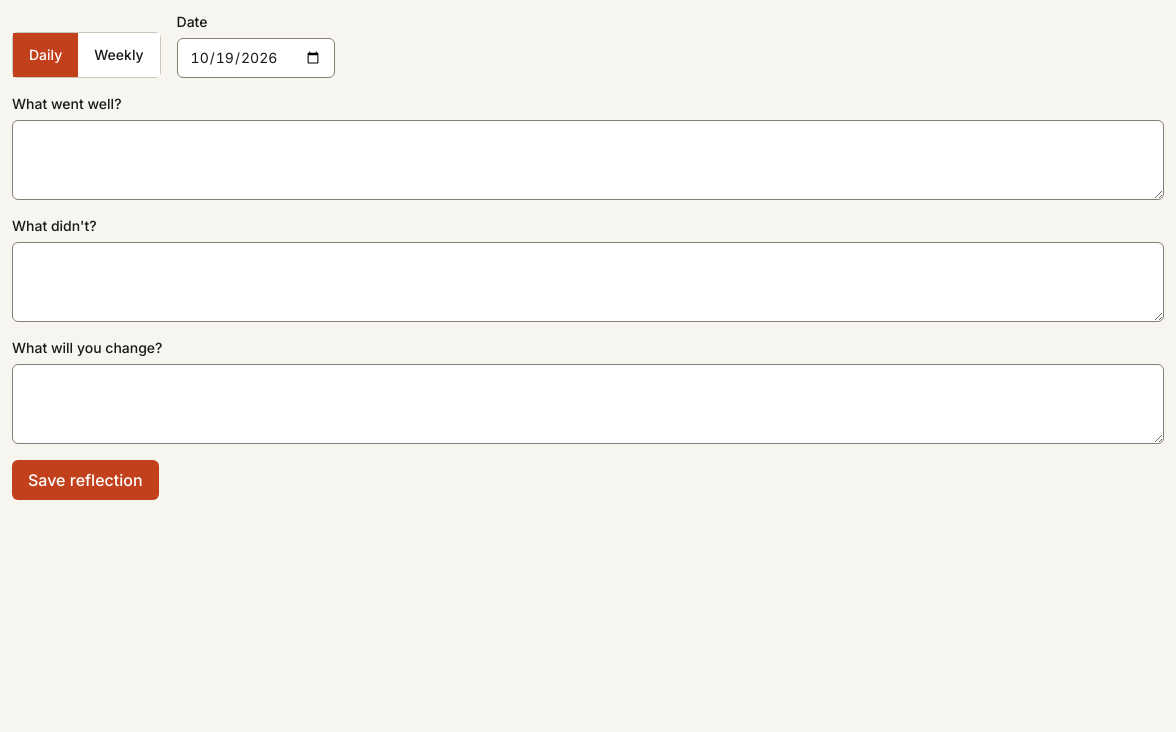
Test case: ReflectionForm › clears and confirms on success
The image size is (1176, 732).
Click the button "weekly" at (119, 55), box [78,33,160,77]
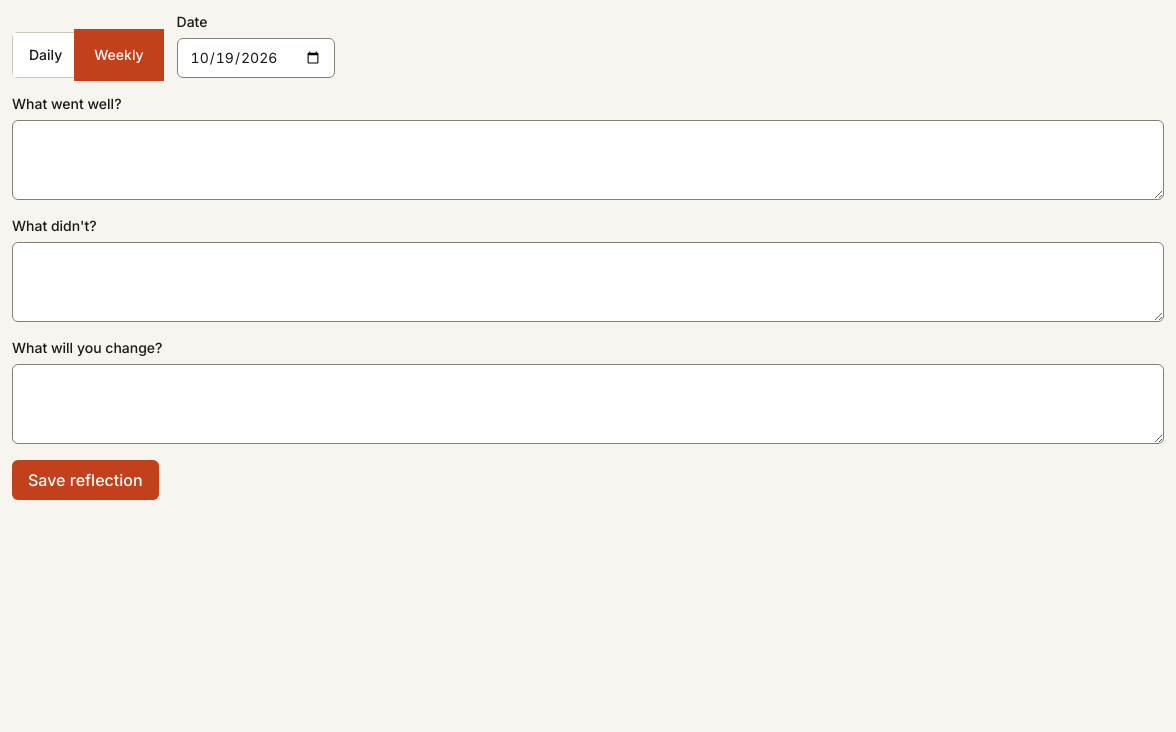
Type "sleep" into the text box labelled "What will you change?" at (588, 404), box [12,364,1164,444]
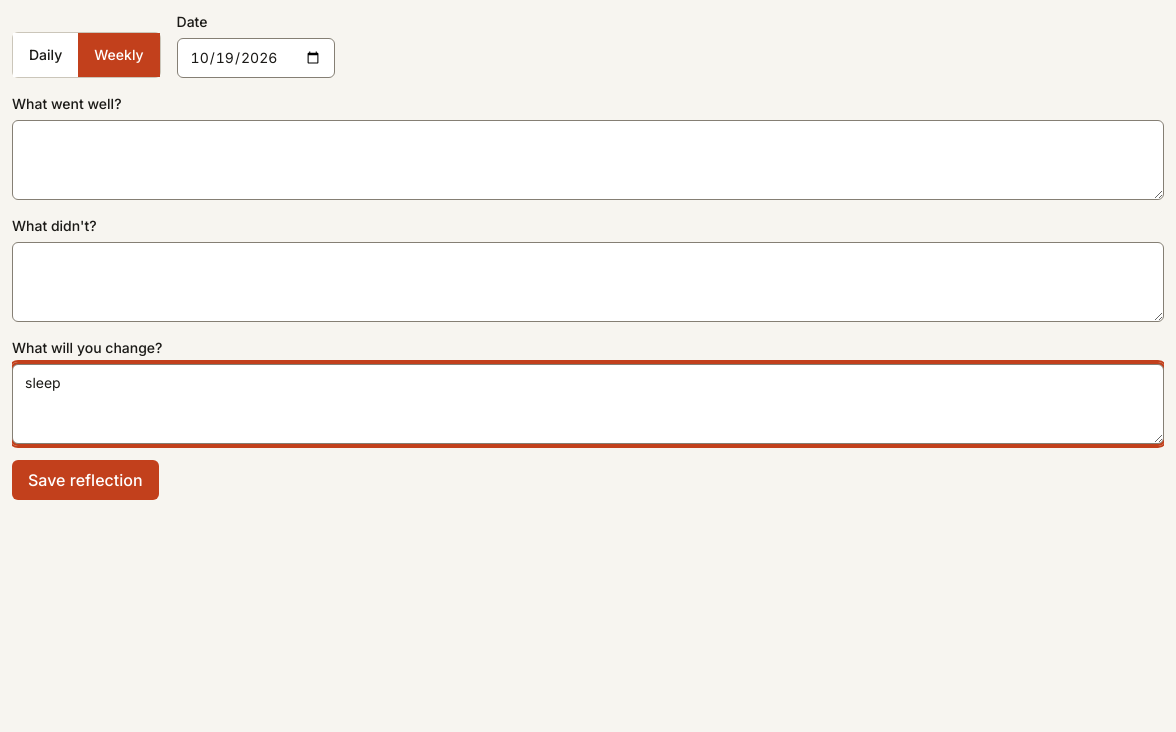
Click the button "Save reflection" at (85, 480), box [12,460,158,500]
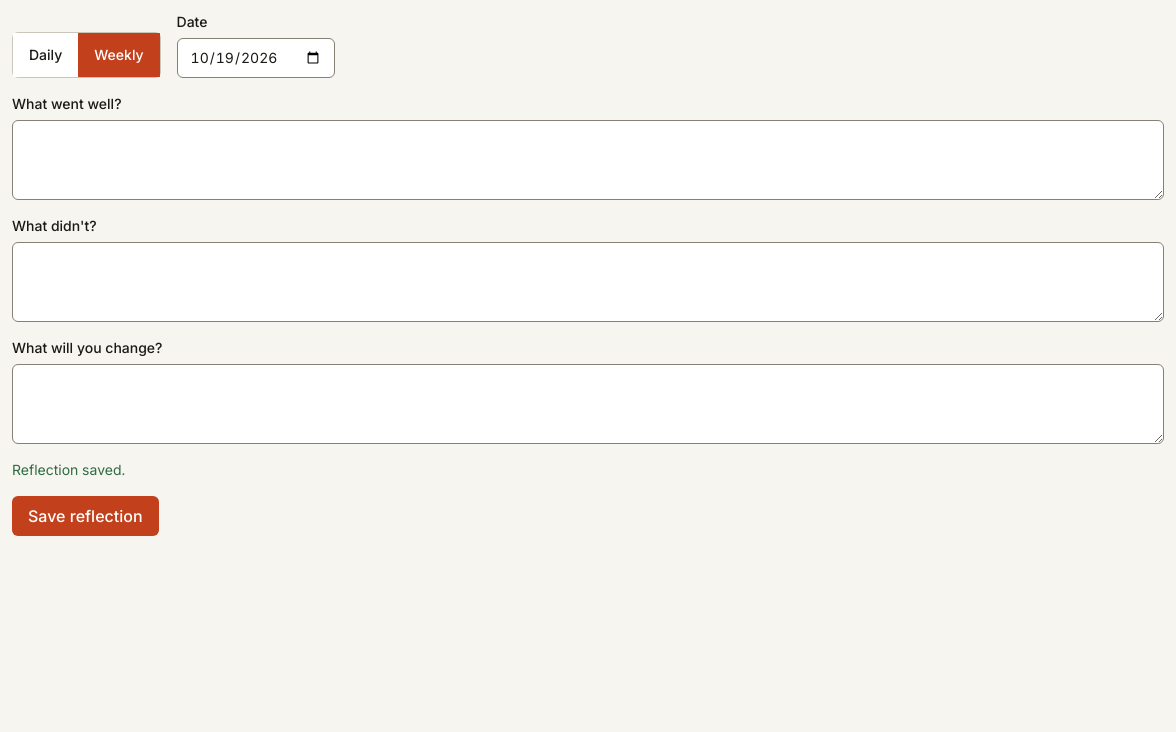
Check: the text "Reflection saved." is shown, box [12,461,125,478]
Check: the text box labelled "What will you change?" is empty, box [12,364,1164,444]
